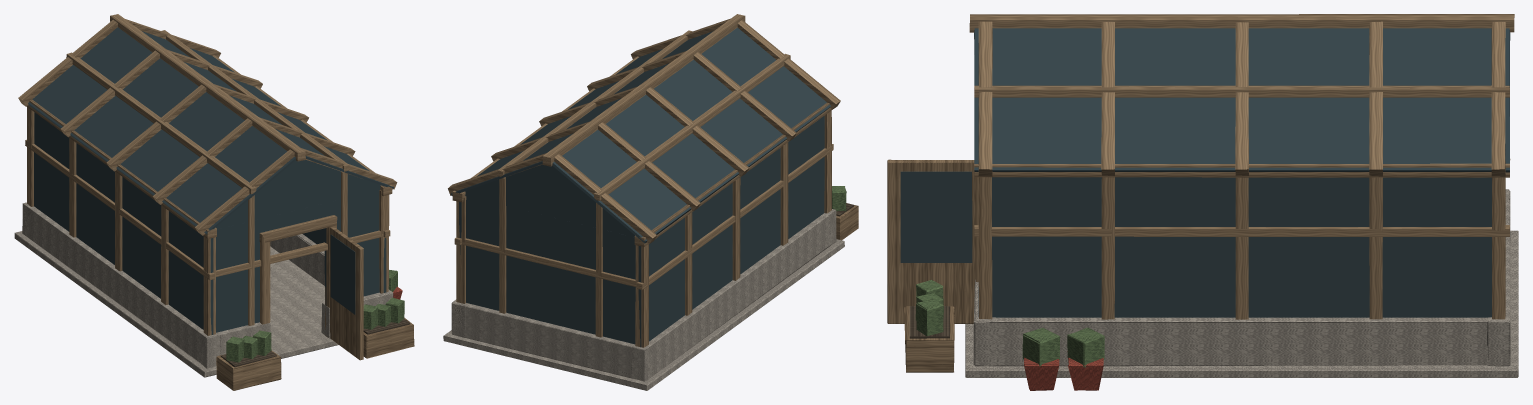
The model's file is greenhouse.glb.
3 renders of one model, left to right at view 1: azimuth 30°, elevation 25°; view 2: azimuth 150°, elevation 25°; view 3: azimuth 270°, elevation 25°, orthographic. The views are drawn at different scales.
Parts seen in each view (by area): view 1: Greenhouse; view 2: Greenhouse; view 3: Greenhouse.
Boxes of the visible parts, x1=… form: Greenhouse: x1=14, y1=14, x2=414, y2=390; Greenhouse: x1=443, y1=14, x2=858, y2=390; Greenhouse: x1=887, y1=14, x2=1518, y2=390.
Bounding box in the file's own units: 4.63 × 4.04 × 7.93.
Materials: 6 (5 with a texture image).
